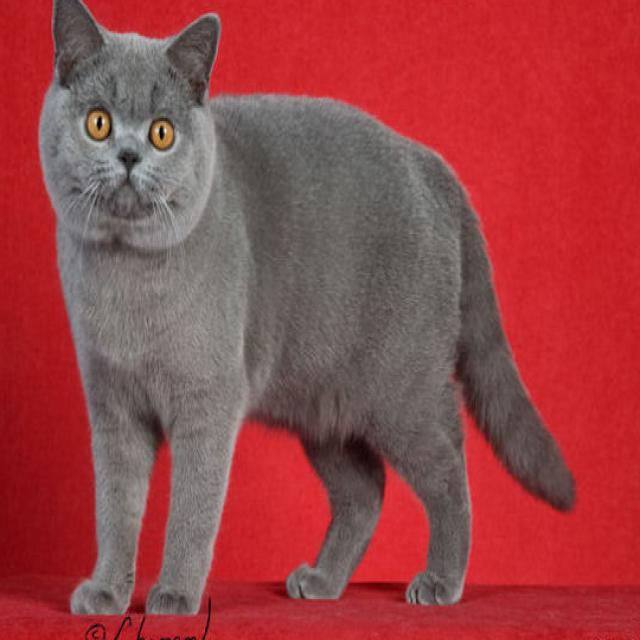British Shorthair: (35, 0, 580, 620)
